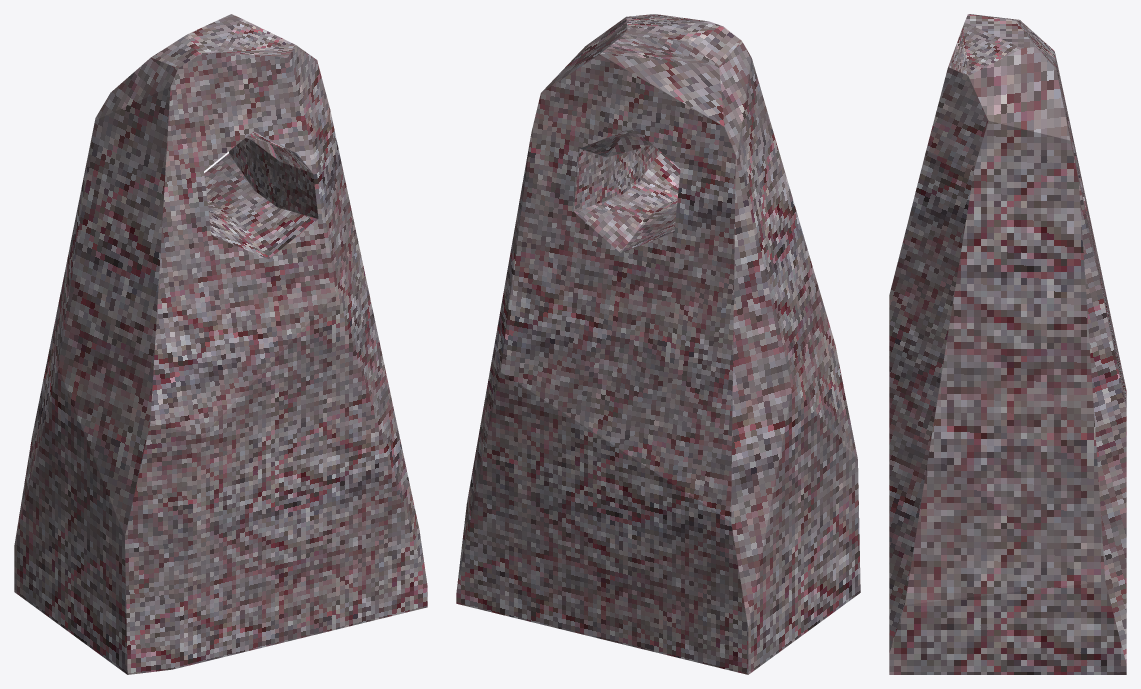
Rendered from Runestone.fbx.
The picture shows the model from 3 angles, left to right: view 1: azimuth 30°, elevation 25°; view 2: azimuth 150°, elevation 25°; view 3: azimuth 270°, elevation 25°; orthographic projection.
Visible parts, largest first — view 1: Runestone; view 2: Runestone; view 3: Runestone.
Boxes of the visible parts, x1=… form: Runestone: x1=14, y1=14, x2=427, y2=674; Runestone: x1=456, y1=14, x2=860, y2=674; Runestone: x1=889, y1=14, x2=1126, y2=674.
Bounding box in the file's own units: 200 × 370 × 140.
